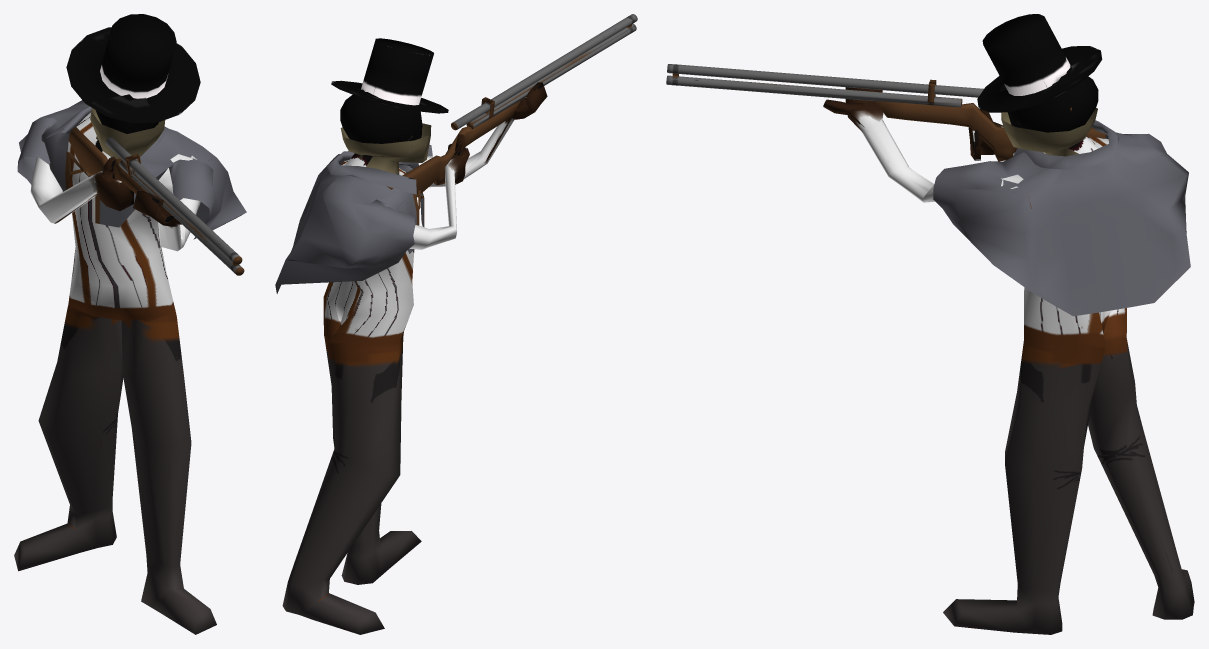
The model's file is Nod_1.obj.
The picture shows the model from 3 angles, left to right: view 1: azimuth 30°, elevation 25°; view 2: azimuth 150°, elevation 25°; view 3: azimuth 270°, elevation 25°; orthographic projection. The views are drawn at different scales.
Visible parts, largest first — view 1: Body_Cube.007, Hat_Cylinder.001, Cloak_Cube.006, Rifle_Cube_Cube_Wood, Scarf_Cube.008; view 2: Body_Cube.007, Cloak_Cube.006, Rifle_Cube_Cube_Wood, Hat_Cylinder.001, Scarf_Cube.008; view 3: Body_Cube.007, Cloak_Cube.006, Rifle_Cube_Cube_Wood, Hat_Cylinder.001, Scarf_Cube.008.
Part boxes in pixels (x1,y1,x2,y2): Body_Cube.007: (14,94,216,634); Hat_Cylinder.001: (66,14,200,123); Cloak_Cube.006: (17,100,246,239); Rifle_Cube_Cube_Wood: (68,127,244,275); Scarf_Cube.008: (90,108,165,159); Body_Cube.007: (282,82,547,634); Cloak_Cube.006: (275,144,432,293); Rifle_Cube_Cube_Wood: (387,14,637,197); Hat_Cylinder.001: (331,38,448,113); Scarf_Cube.008: (340,123,431,174); Body_Cube.007: (823,65,1194,634); Cloak_Cube.006: (933,120,1190,316); Rifle_Cube_Cube_Wood: (666,64,1105,161); Hat_Cylinder.001: (977,14,1102,112); Scarf_Cube.008: (1001,108,1097,156).
Bounding box in the file's own units: 1.91 × 5.72 × 4.63.
